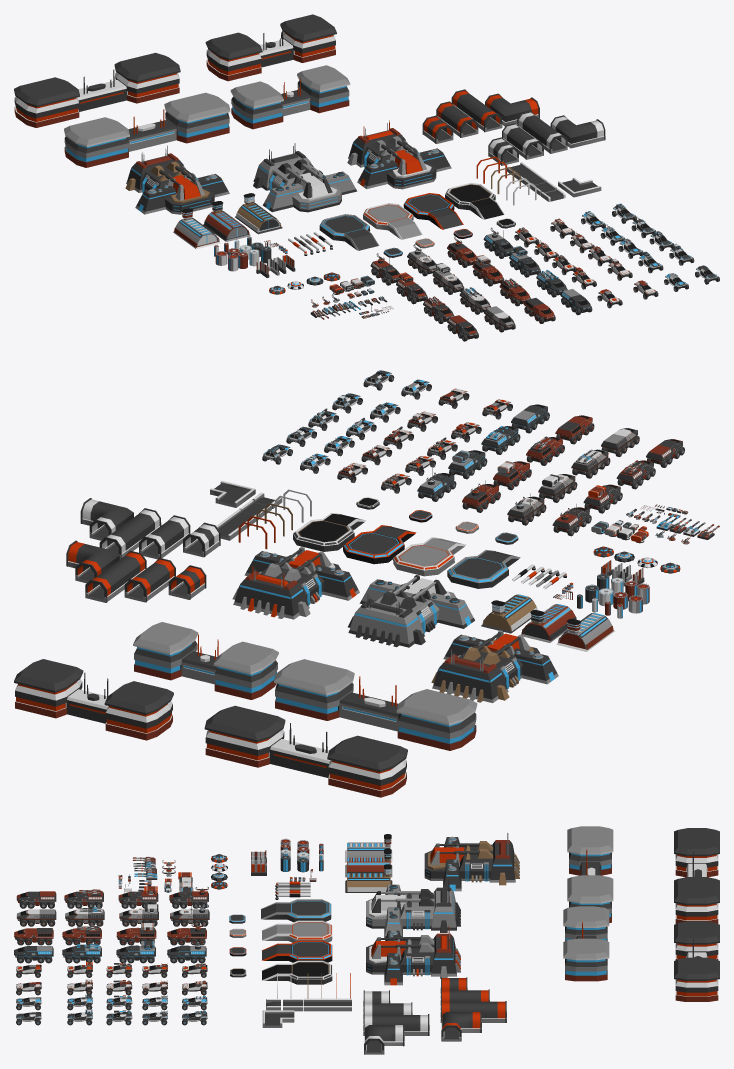
File: scen.FBX
3 views of the same model, one above another, from view 1: azimuth 30°, elevation 25°; view 2: azimuth 150°, elevation 25°; view 3: azimuth 270°, elevation 25° (orthographic). The views are drawn at different scales.
Visible parts, largest first — view 1: b8 (×2), b6, b3 (×2), b7, b5, b4, bp2, bp, bp4, bp3, t4, tr3 (+9 smaller); view 2: b8 (×2), b6, b3 (×2), b7, b5, b4, bp, bp2, bp4, bp3, tr3, t3 (+10 smaller); view 3: b8 (×2), b3 (×2), b5, b4, b6, b7, bp4, bp, bp3, bp2, tr3, t4 (+24 smaller).
Part boxes in pixels (box(x1,y1,x2,y2)): b8 (×2): box(14, 14, 336, 127); b6: box(64, 92, 230, 167); b3 (×2): box(125, 145, 282, 234); b7: box(230, 65, 350, 129); b5: box(347, 120, 451, 189); b4: box(253, 143, 357, 212); bp2: box(363, 203, 422, 239); bp: box(319, 214, 379, 250); bp4: box(445, 183, 504, 219); bp3: box(403, 193, 463, 229); t4: box(550, 115, 605, 148); tr3: box(451, 89, 502, 132); b8 (×2): box(14, 659, 407, 797); b6: box(274, 659, 477, 750); b3 (×2): box(431, 594, 558, 702); b7: box(133, 622, 278, 699); b5: box(232, 546, 359, 619); b4: box(348, 575, 474, 647); bp: box(447, 550, 520, 588); bp2: box(393, 537, 466, 576); bp4: box(293, 513, 365, 551); bp3: box(343, 525, 416, 564); tr3: box(85, 550, 146, 602); t3: box(99, 508, 161, 559); b8 (×2): box(674, 828, 719, 1001); b3 (×2): box(345, 833, 519, 892); b5: box(366, 926, 460, 985); b4: box(366, 880, 460, 937); b6: box(567, 826, 613, 922); b7: box(563, 906, 609, 981); bp4: box(261, 960, 332, 984); bp: box(261, 899, 331, 922); bp3: box(262, 940, 332, 962); bp2: box(261, 920, 332, 942); tr3: box(440, 1001, 506, 1022); t4: box(364, 1024, 404, 1054).
Size of what is drawn, in the model's own units: 9439 by 696 by 13706.
